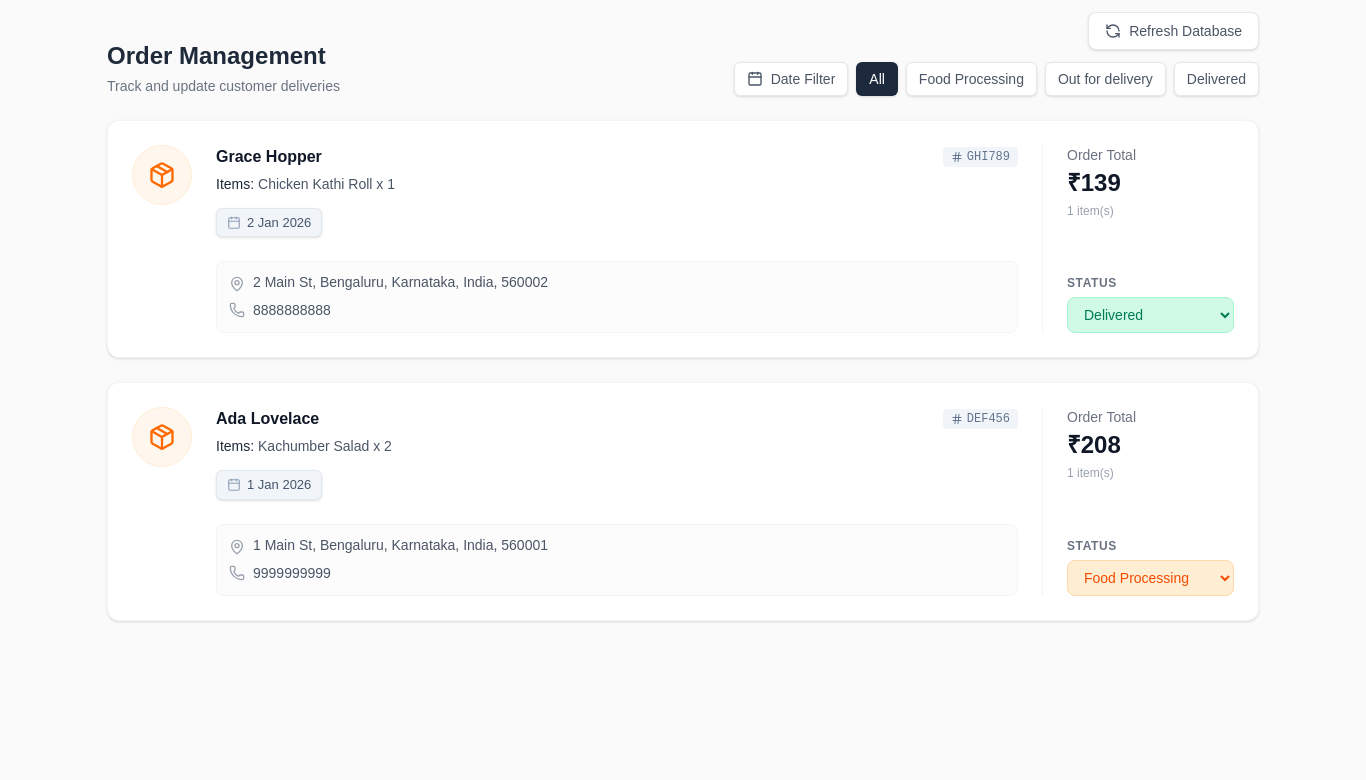
Test: AdminOrdersPage › filters by status
Expected: the heading "Ada Lovelace" is shown, [216,407,319,431]
Click the button "Delivered": {"x": 1216, "y": 79} [1174,62,1259,96]
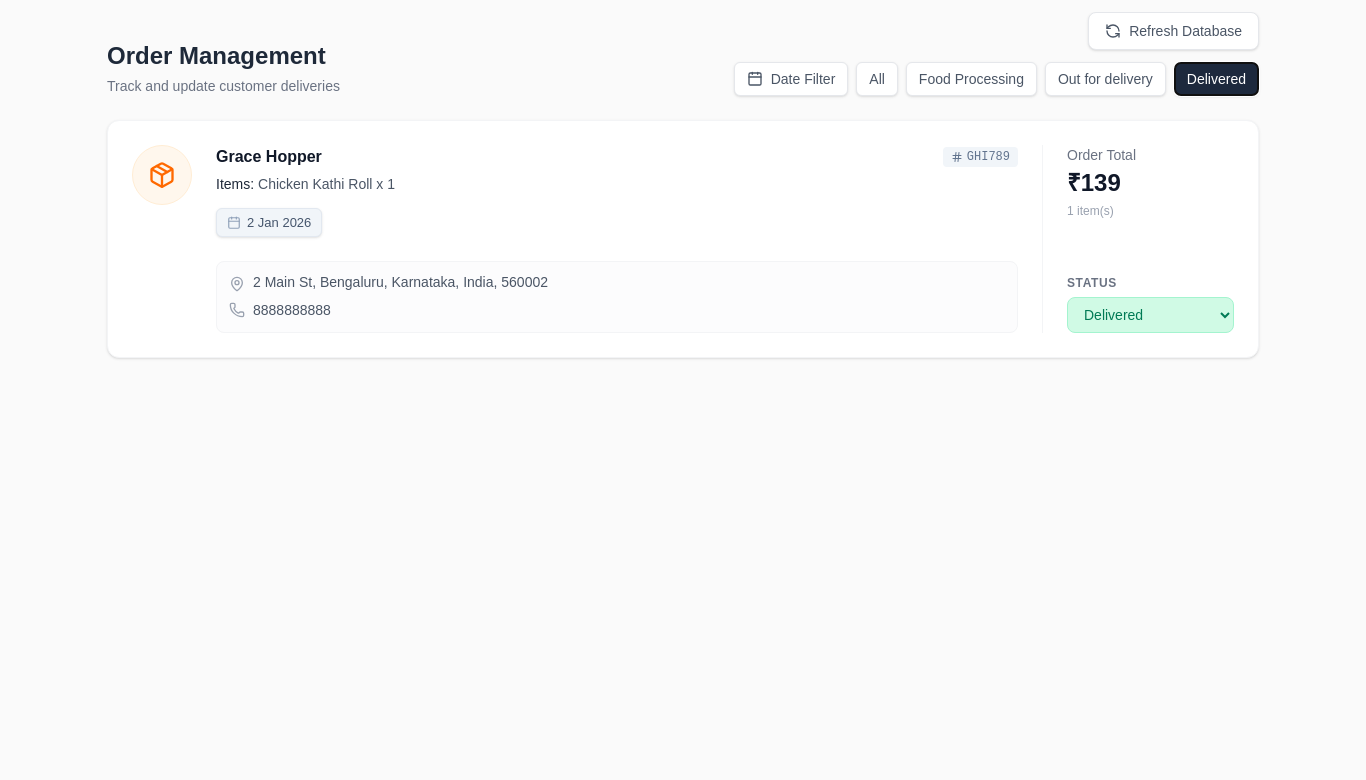
Expected: the heading "Grace Hopper" is shown, [216,145,322,169]
Now the heading "Ada Lovelace" is gone
